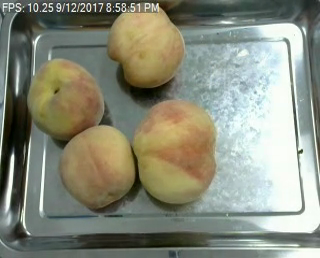Peach: (134, 98, 217, 204), (26, 56, 105, 141), (107, 4, 185, 87), (59, 124, 134, 208)
